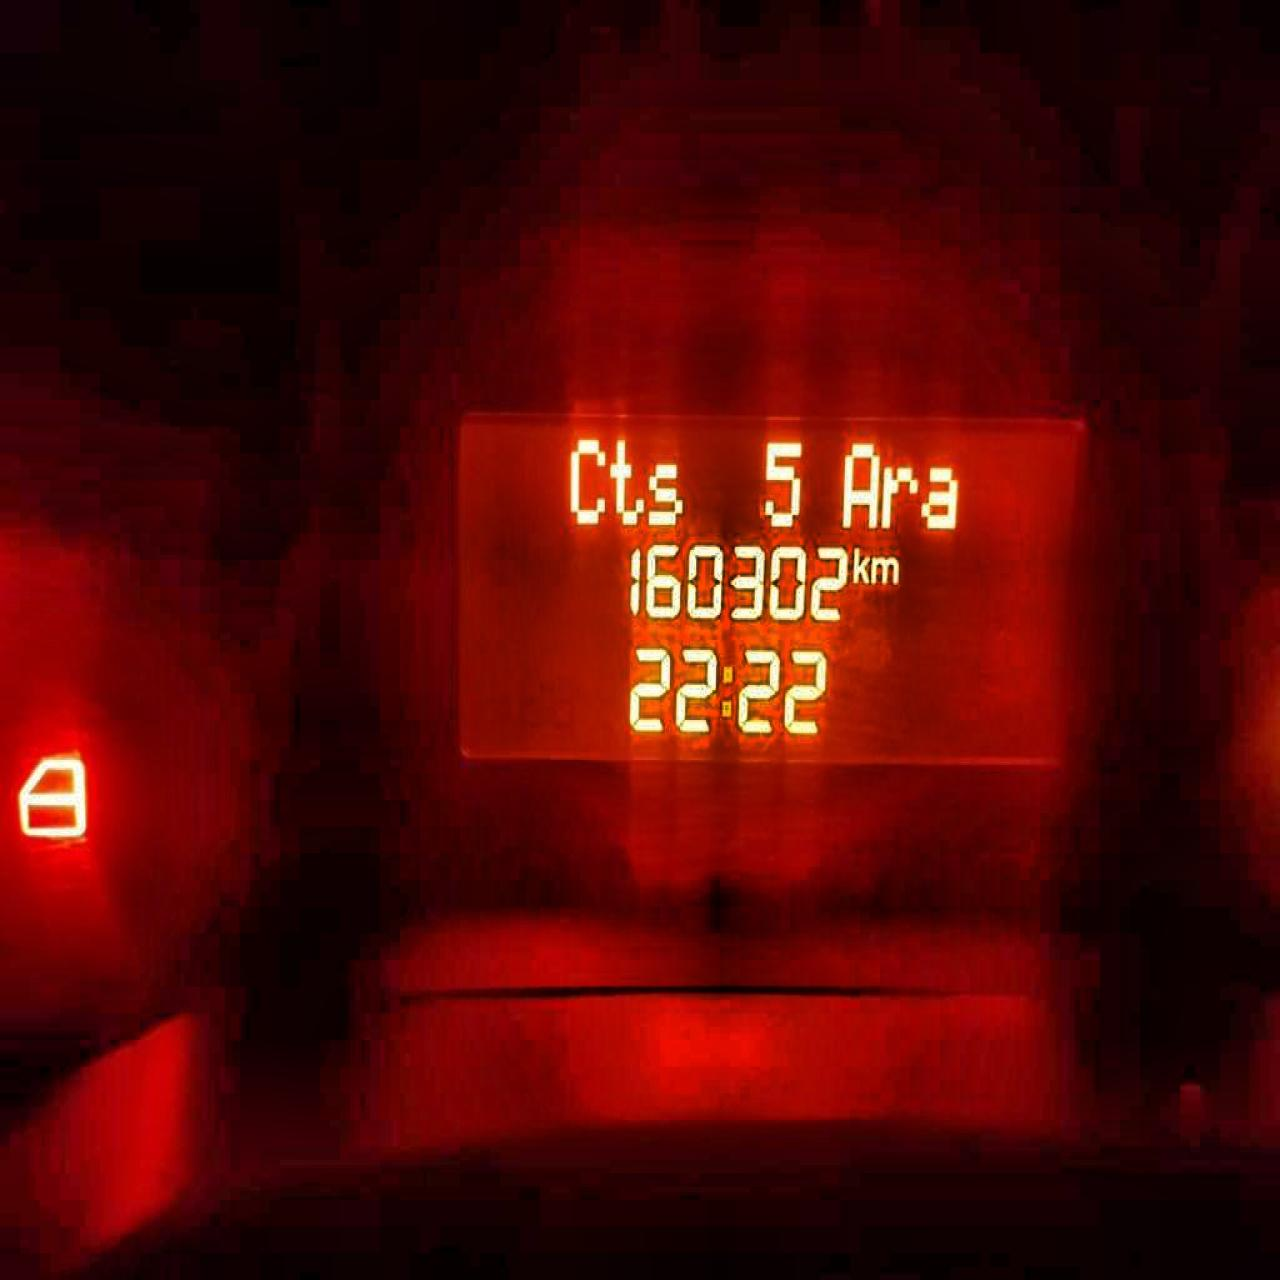0: (681, 540, 727, 620), (765, 544, 806, 624)
1: (621, 545, 640, 620)
2: (737, 644, 781, 743), (625, 644, 670, 737), (673, 644, 717, 738), (783, 645, 828, 737), (808, 543, 849, 621)
3: (730, 539, 764, 624)
5: (757, 434, 803, 530)
6: (642, 542, 680, 620)
X: (837, 431, 878, 536), (563, 431, 607, 525), (646, 442, 683, 536), (607, 435, 645, 526), (881, 455, 919, 535), (920, 457, 959, 533), (870, 549, 903, 590), (719, 660, 735, 723), (851, 542, 870, 584)
odometer: (448, 407, 1091, 785)
